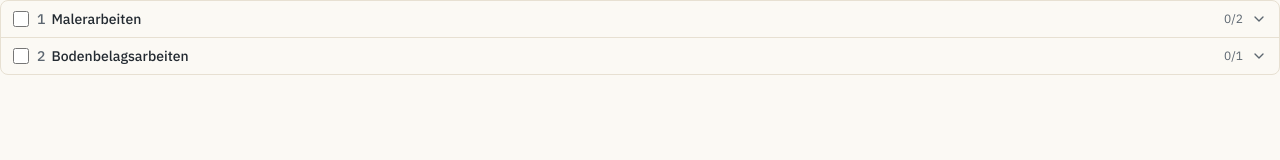
CategoryPicker › zeigt Hauptkategorien zugeklappt (ohne Auswahl) und klappt sie mit Nummern auf
Check: the text "Abdecken" is not shown
Click the button "1Malerarbeiten 0/2". click: (96, 19)
box: [37, 9, 1267, 29]
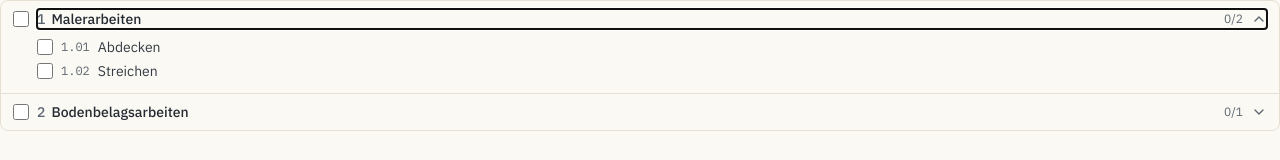
Check: the text "1.02" is shown, box [61, 63, 90, 79]
Check: the text "Streichen" is shown, box [98, 62, 158, 80]
